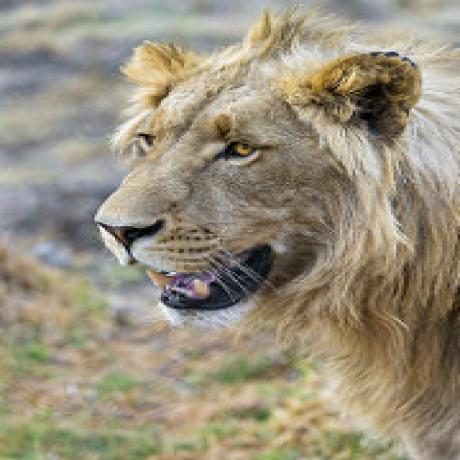Lion: (92, 9, 460, 460)
